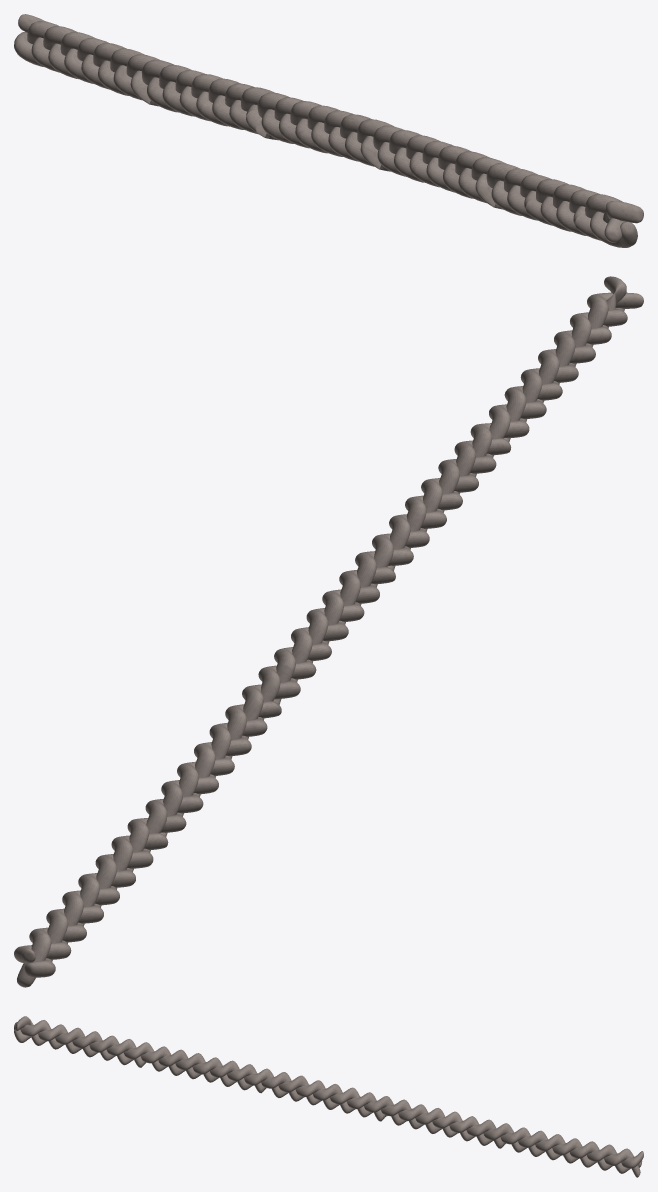
3 views of the same model, one above another, from view 1: azimuth 30°, elevation 25°; view 2: azimuth 150°, elevation 25°; view 3: azimuth 270°, elevation 25° (orthographic). The views are drawn at different scales.
Parts seen in each view (by area): view 1: rope2; view 2: rope2; view 3: rope2.
Boxes of the visible parts, box(x1,y1,x2,y2) form: rope2: box(14, 14, 643, 247); rope2: box(14, 276, 643, 987); rope2: box(14, 1016, 643, 1177).
Bounding box in the file's own units: 7.88 × 42.72 × 157.
